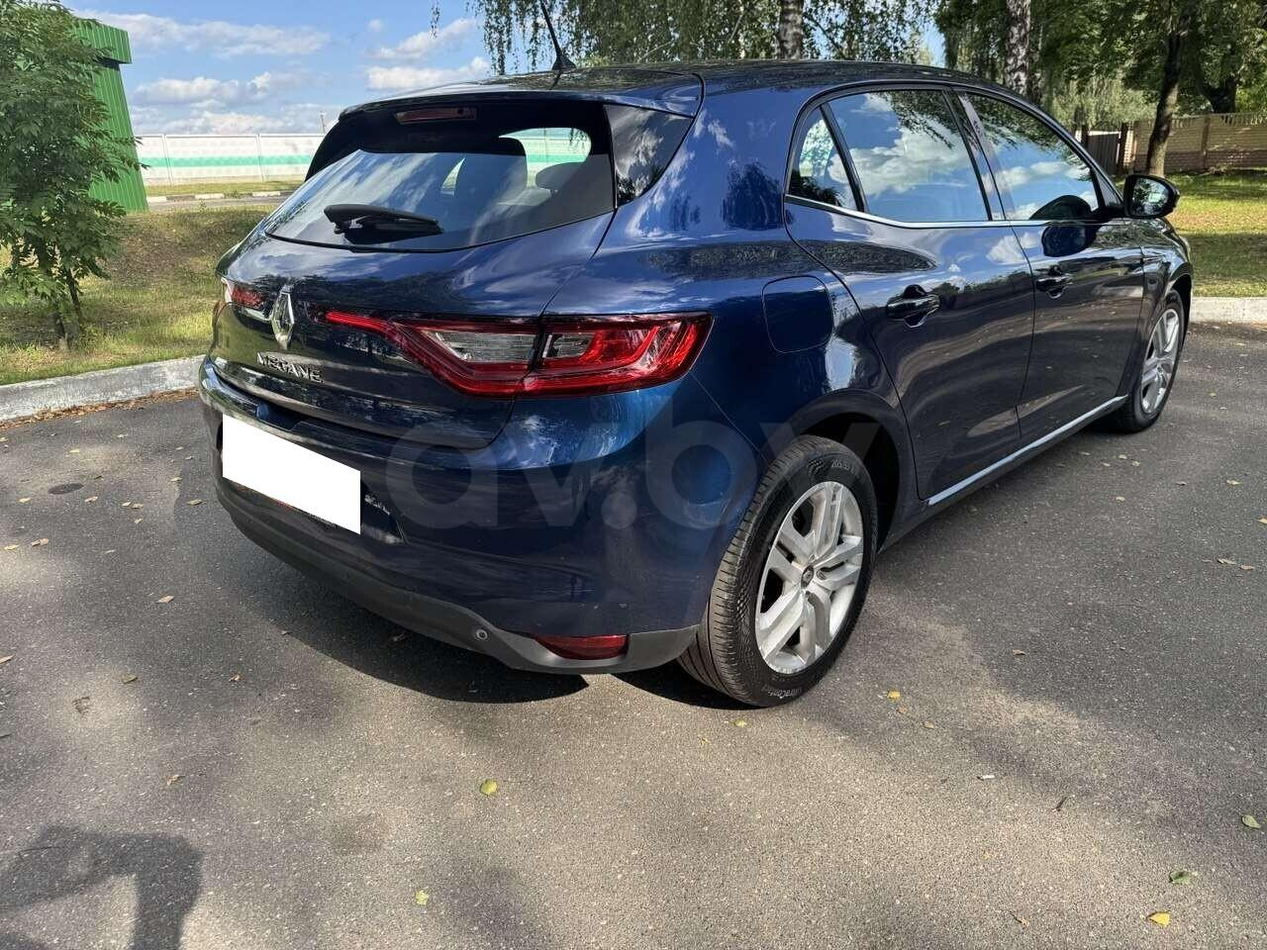Megane_2016-2020: (192, 54, 1192, 703)
